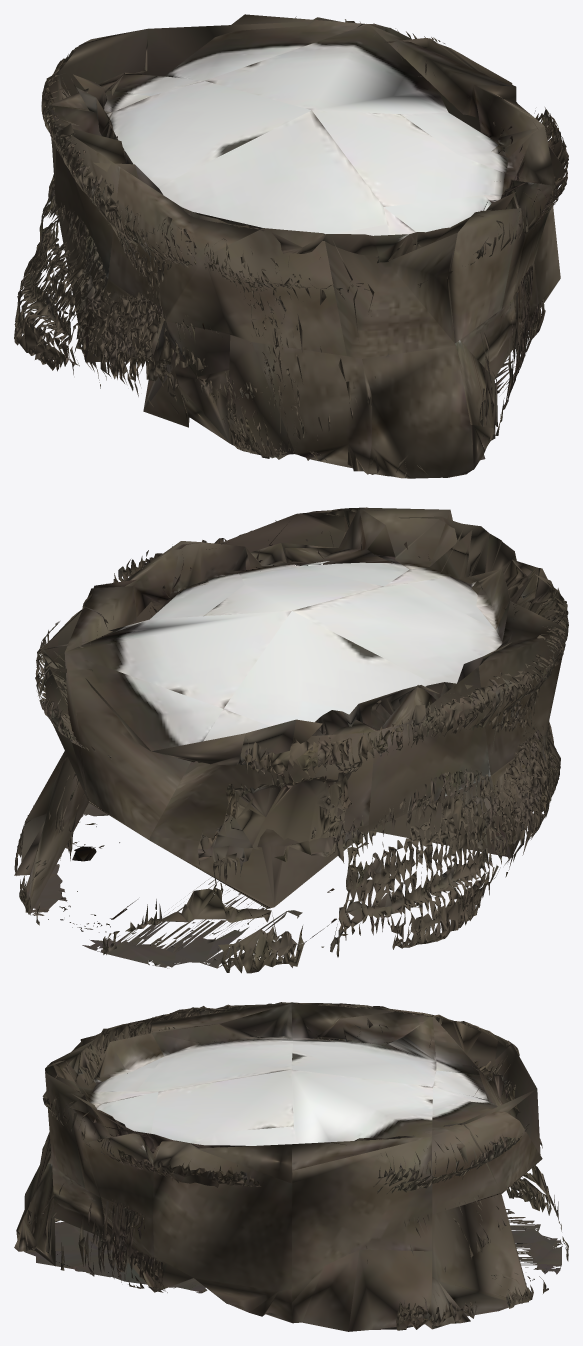
File: wheat_sack.glb
3 renders of one model, top to bottom at view 1: azimuth 30°, elevation 25°; view 2: azimuth 150°, elevation 25°; view 3: azimuth 270°, elevation 25°, orthographic. The views are drawn at different scales.
Visible parts, largest first — view 1: geometry_0; view 2: geometry_0; view 3: geometry_0.
Part boxes in pixels (left/top/right/bottom): geometry_0: left=14, top=14, right=568, bottom=478; geometry_0: left=14, top=507, right=568, bottom=973; geometry_0: left=14, top=1002, right=568, bottom=1331.
Size of the model in its own units: 0.7163 by 0.3687 by 0.9869.
Materials: 1 (1 with a texture image).
